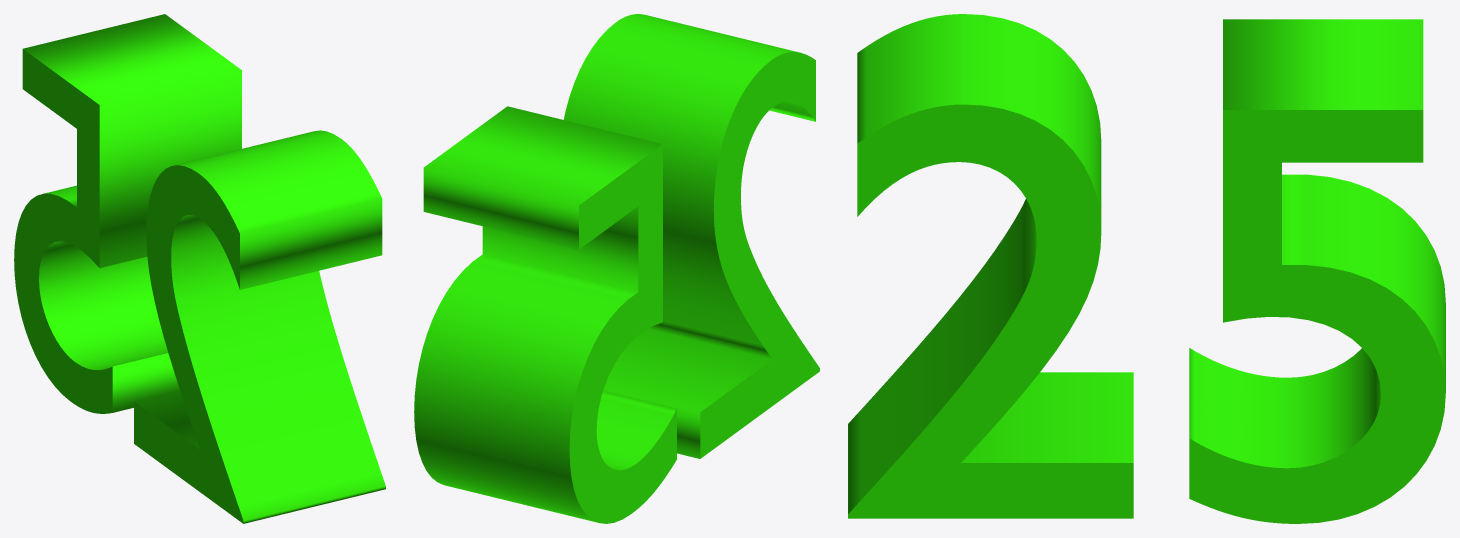
The model's file is number25.obj.
The picture shows the model from 3 angles, left to right: view 1: azimuth 30°, elevation 25°; view 2: azimuth 150°, elevation 25°; view 3: azimuth 270°, elevation 25°; orthographic projection. The views are drawn at different scales.
Visible parts, largest first — view 1: Text.026_Text.033; view 2: Text.026_Text.033; view 3: Text.026_Text.033.
Boxes of the visible parts, x1,y1,x2,y2 form: Text.026_Text.033: [14, 14, 385, 523]; Text.026_Text.033: [414, 14, 819, 523]; Text.026_Text.033: [848, 14, 1445, 523].
Bounding box in the file's own units: 2.23 × 4.83 × 6.23.
